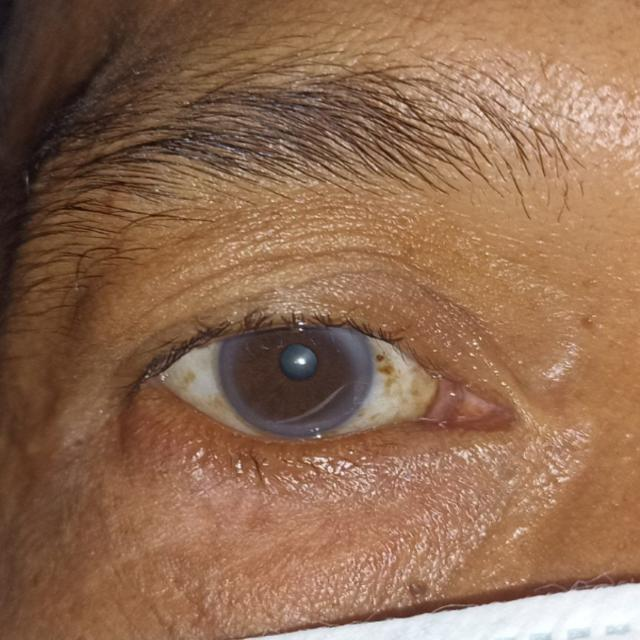Cataract: (216, 295, 371, 446)
